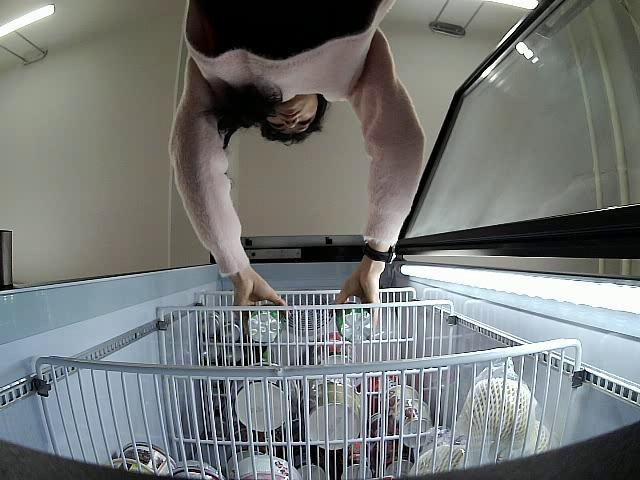18_trevi: (338, 297, 377, 345), (244, 298, 281, 345)
